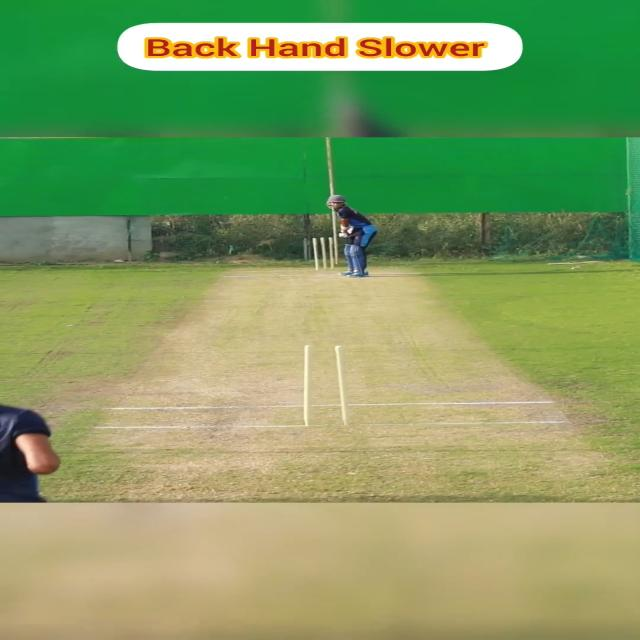stump: (302, 344, 350, 426), (312, 237, 336, 271)
